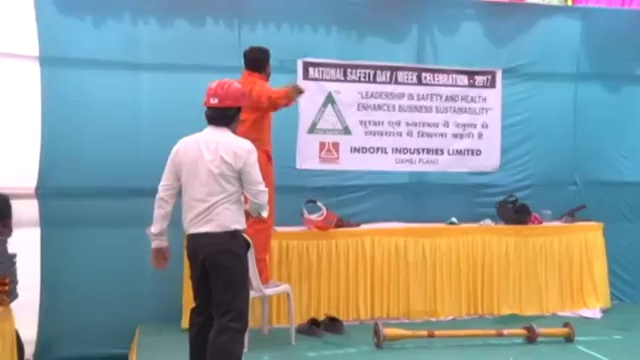helmet: (203, 77, 246, 111)
helmet_off: (243, 45, 274, 82)
helmet_on: (203, 77, 247, 134)
person: (146, 77, 271, 360), (231, 42, 310, 286)
